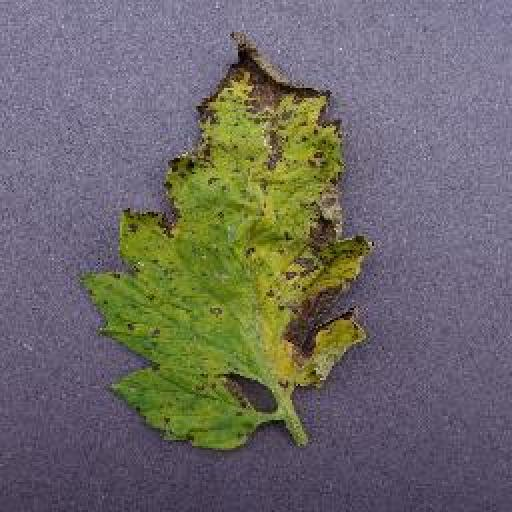Septoria: (83, 29, 370, 448)
